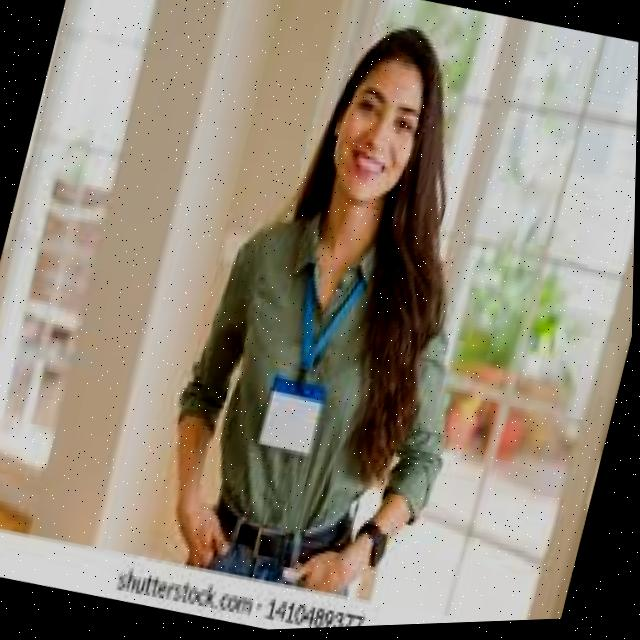id_card: (247, 249, 384, 472)
